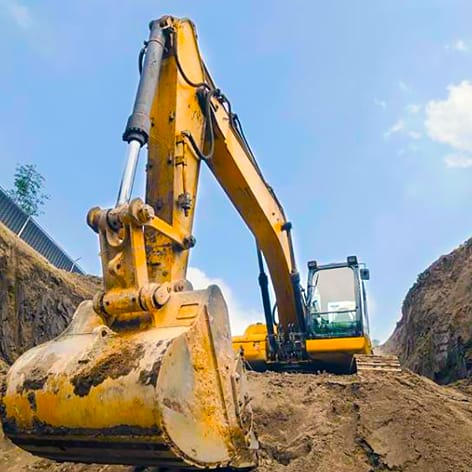backhoe: (5, 9, 370, 464)
